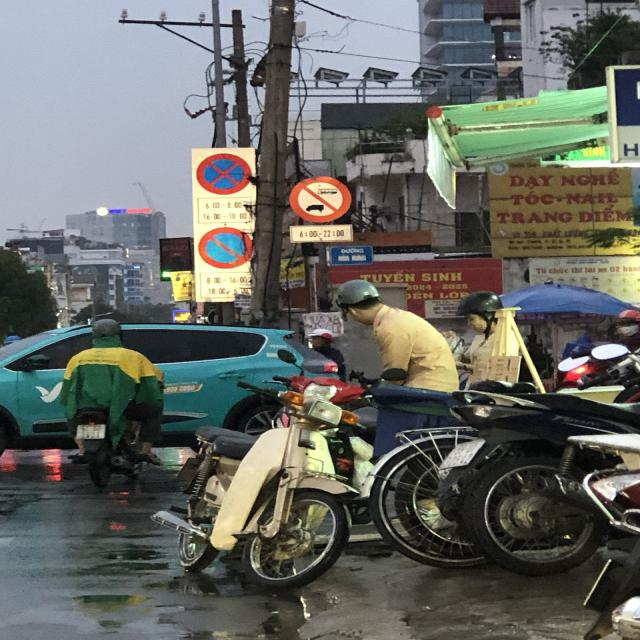Bien bao cam dung xe va do xe: (192, 150, 253, 198)
Bien bao cam xe oto khach va xe oto tai: (286, 171, 355, 224)
